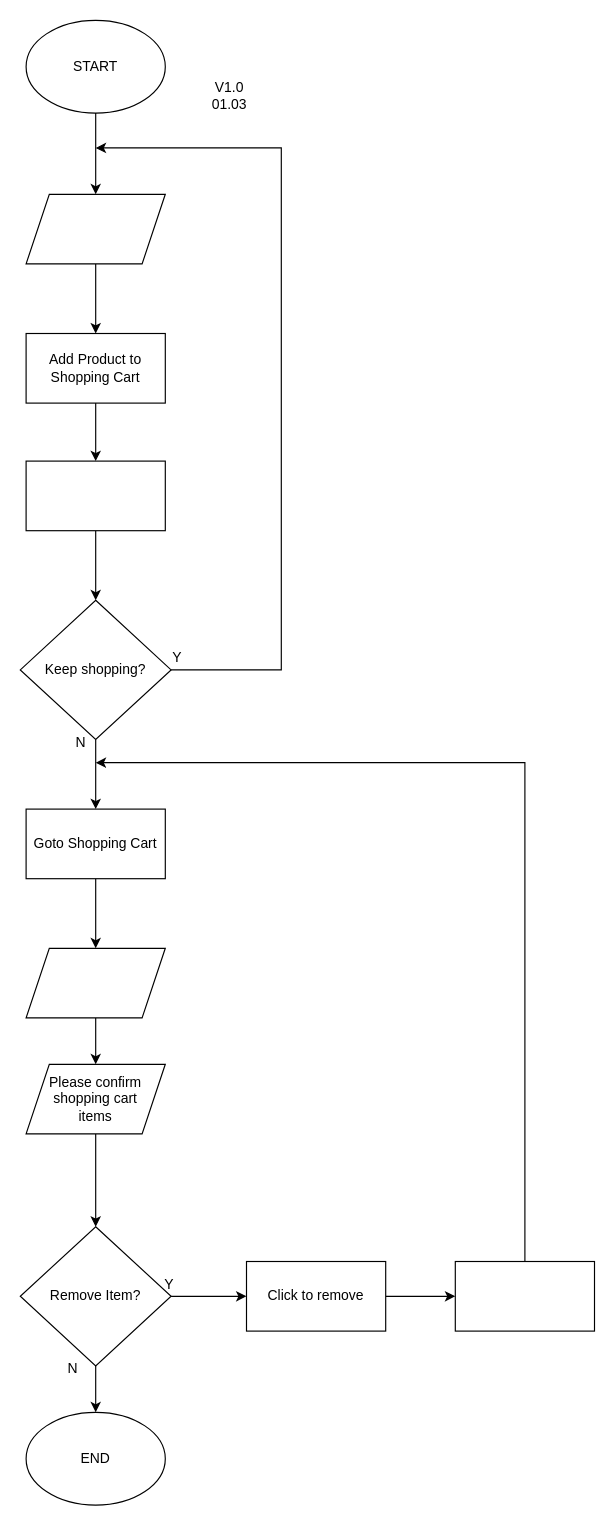
Some shapes in this 615 by 1525 pixel diagram are drawn without their labels. Here are the shapes that lost their labels. From the top down, the box of each, then its label:
(25, 193, 165, 264): Main page: list of products
(25, 460, 165, 531): Shopping cart counter++
(25, 947, 165, 1018): Output: Shopping Cart Items
(454, 1260, 594, 1331): Shopping cart counter--
